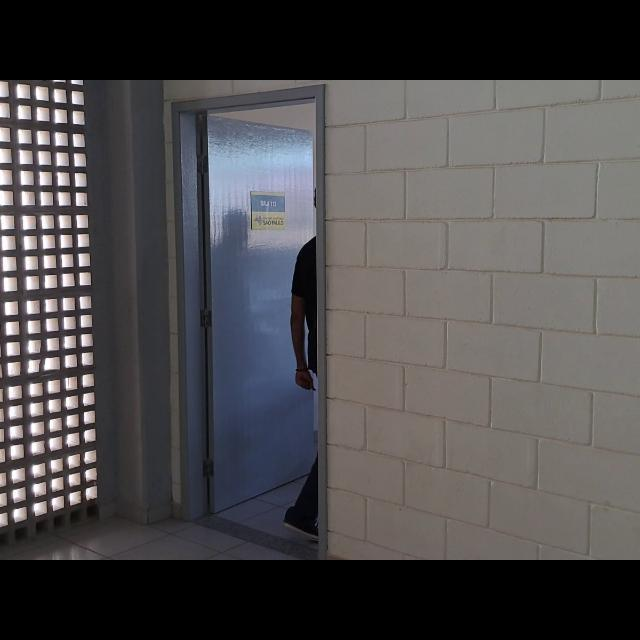door: (171, 85, 323, 521)
